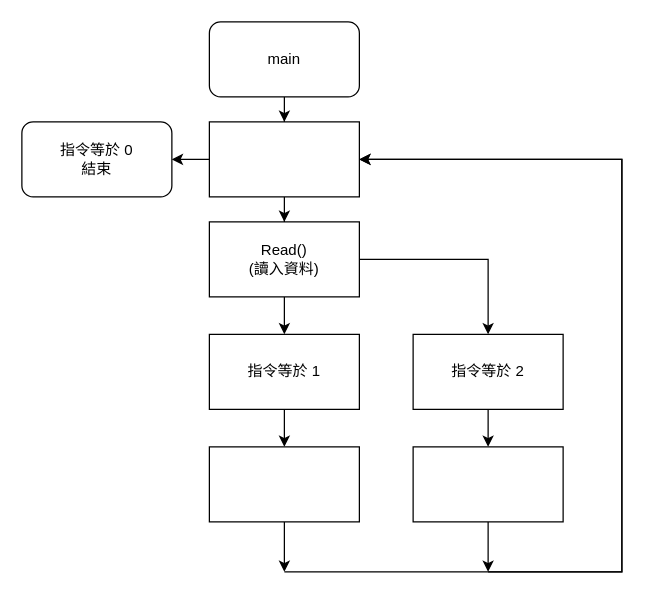
Image size: 654x604. Some labels were removed from this diagram. The centre of each missing label's shape, as x and y in pixels:
"任務一 minTree()" goes at point (283, 484).
"任務二 minmaxTree()" goes at point (487, 484).
"輸入指令(0,1,2)" goes at point (283, 159).
